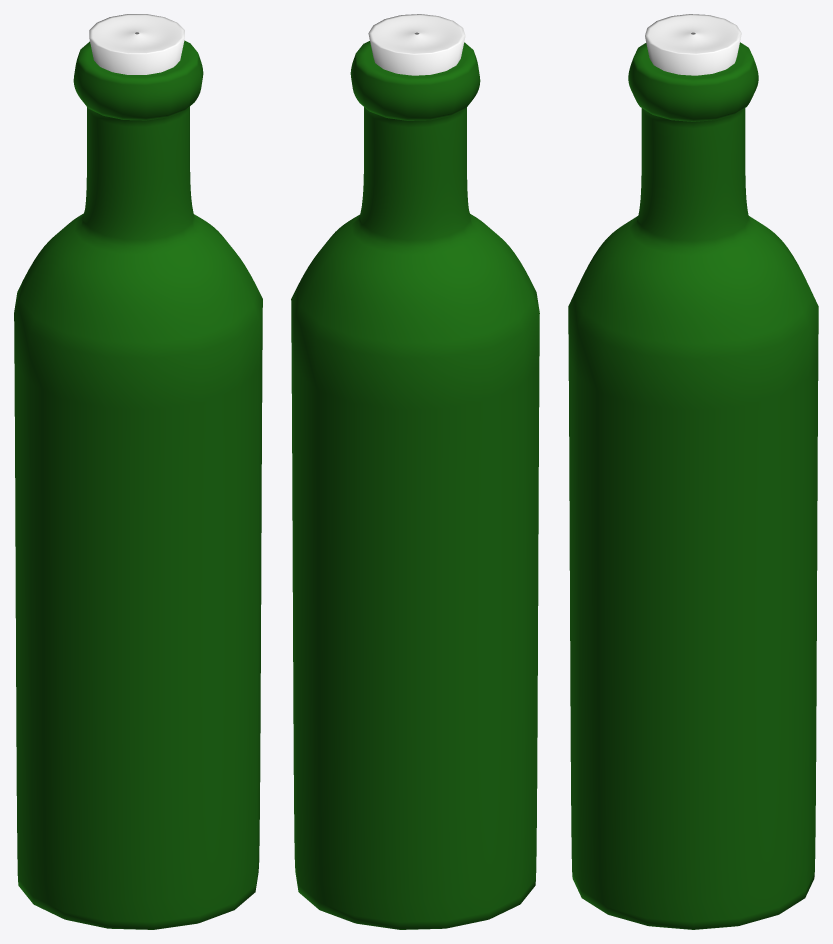
File: objetMorgane.glb
3 renders of one model, left to right at view 1: azimuth 30°, elevation 25°; view 2: azimuth 150°, elevation 25°; view 3: azimuth 270°, elevation 25°, orthographic.
Visible parts, largest first — view 1: Objet, bouchon; view 2: Objet, bouchon; view 3: Objet, bouchon.
Boxes of the visible parts, x1,y1,x2,y2 form: Objet: (14, 40, 262, 929); bouchon: (89, 14, 184, 74); Objet: (291, 41, 539, 929); bouchon: (368, 14, 465, 75); Objet: (568, 42, 818, 929); bouchon: (645, 14, 741, 75).
Size of the model in its own units: 17.35 by 64.83 by 17.35.
